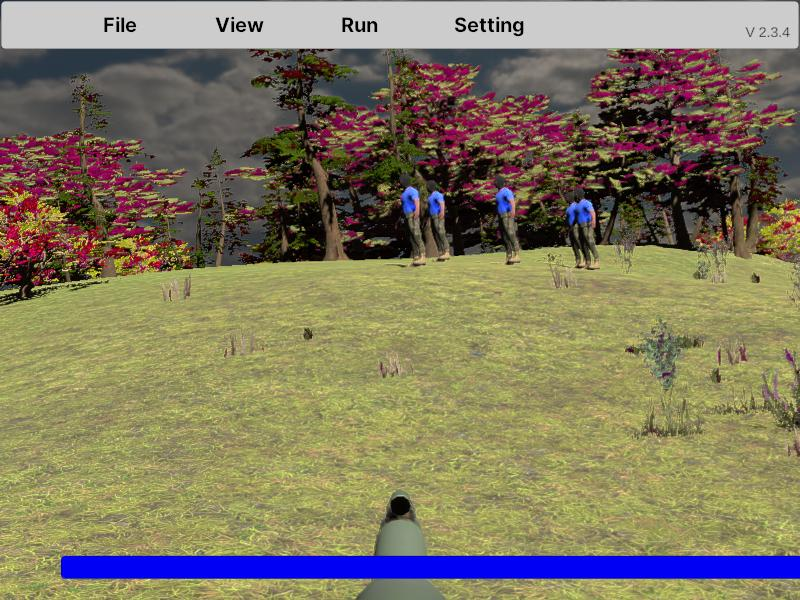Human: (400, 172, 427, 264), (495, 175, 521, 264), (571, 188, 597, 268), (425, 179, 450, 262), (562, 191, 586, 268)
